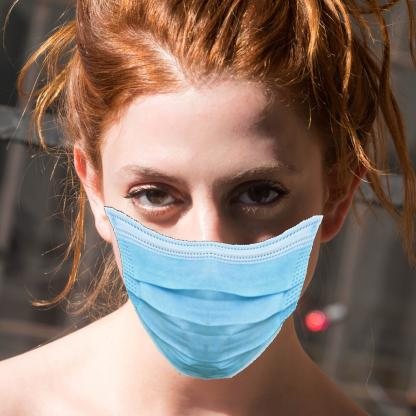Correctly_Masked: (100, 94, 325, 382)
